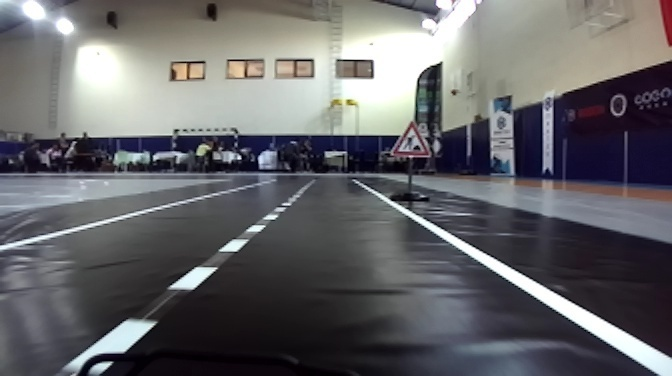yol_yapimi: (386, 115, 437, 160)
